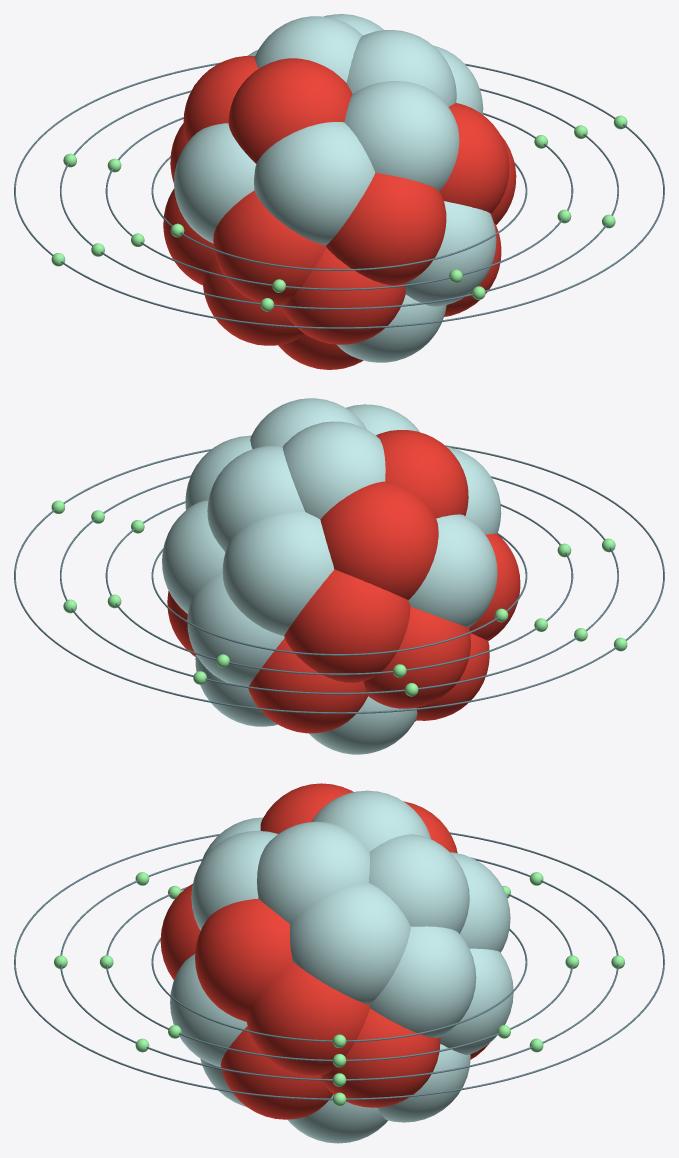
Rendered from calcium.glb.
The picture shows the model from 3 angles, top to bottom: view 1: azimuth 30°, elevation 25°; view 2: azimuth 150°, elevation 25°; view 3: azimuth 270°, elevation 25°; orthographic projection.
Visible parts, largest first — view 1: element_020_calcium; view 2: element_020_calcium; view 3: element_020_calcium.
Part boxes in pixels (x1=…): element_020_calcium: x1=14, y1=14, x2=664, y2=369; element_020_calcium: x1=14, y1=398, x2=664, y2=754; element_020_calcium: x1=14, y1=783, x2=664, y2=1143.
Size of the model in its own units: 5.63 by 3.01 by 5.52.
